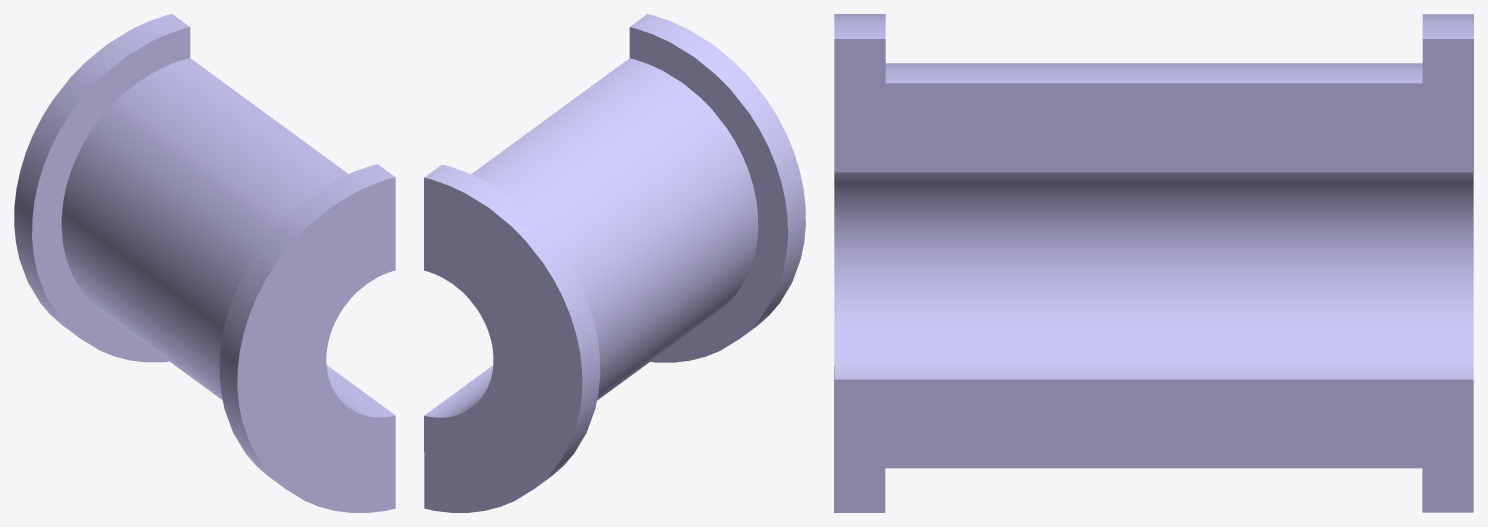
Rendered from calorimeter-lar-barrel-cut-2.glb.
3 renders of one model, left to right at view 1: azimuth 30°, elevation 25°; view 2: azimuth 150°, elevation 25°; view 3: azimuth 270°, elevation 25°, orthographic. The views are drawn at different scales.
Parts seen in each view (by area): view 1: lar_barrel.001; view 2: lar_barrel.001; view 3: lar_barrel.001.
Part boxes in pixels (x1,y1,x2,y2): lar_barrel.001: [14, 14, 395, 512]; lar_barrel.001: [424, 14, 805, 512]; lar_barrel.001: [834, 14, 1473, 512].
Size of the model in its own units: 2.78 by 5.56 by 6.79.
